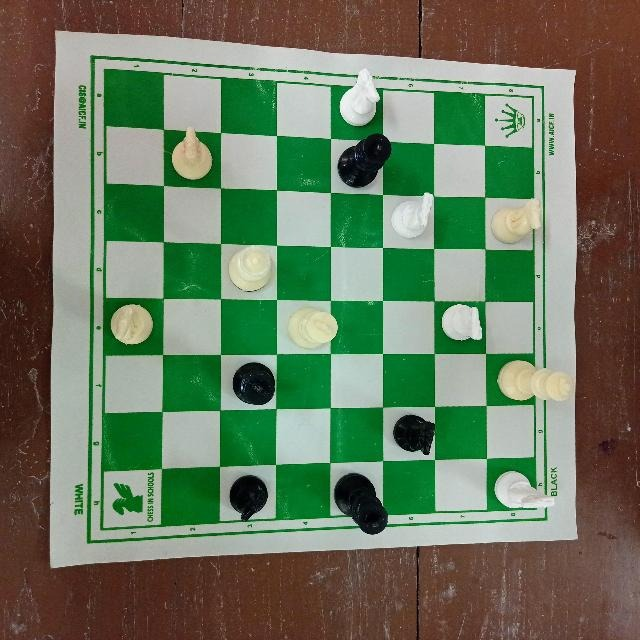black-king: (332, 469, 394, 543), (337, 130, 399, 192), (226, 356, 282, 409)
black-knight: (224, 472, 276, 528), (390, 409, 440, 459)
white-king: (496, 357, 574, 404), (275, 299, 343, 349)
white-knight: (491, 464, 557, 515), (162, 124, 216, 182), (336, 67, 384, 131), (489, 194, 549, 244), (104, 301, 160, 351), (433, 300, 488, 349), (388, 191, 436, 245)
white-queen: (225, 239, 273, 297)
